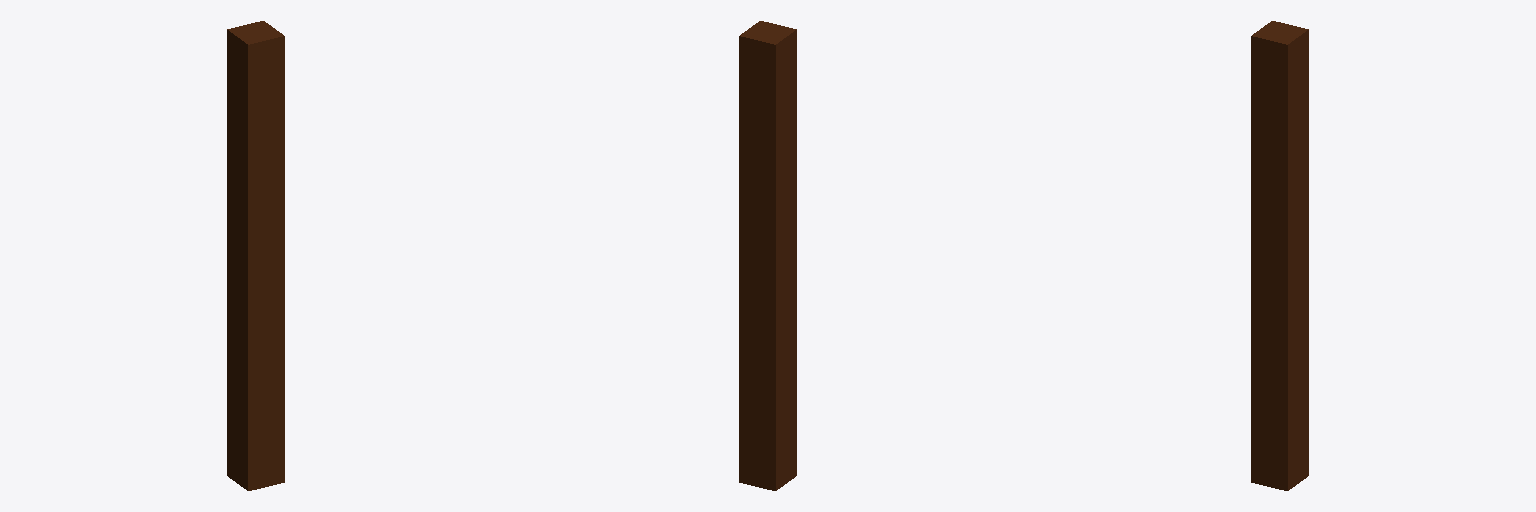
URDF robot description (tree_tall_wide):
<?xml version="1.0" ?>
<robot name="tree_tall_wide">
    <link name="block">
    <inertial>
      <origin xyz="0 0 0" rpy="0 0 0"/>
      <mass value="0.0"/>
      <inertia ixx="1" ixy="0" ixz="0" iyy="1" iyz="0" izz="1"/>
    </inertial>
    <!-- Visual representation of the cube (0.3m x 0.3m x 0.3m) -->
    <visual>
      <origin xyz="0 0 0" rpy="0 0 0"/>
      <geometry>
        <box size="0.6 0.6 7.0"/>
      </geometry>
      <material name="brown">
        <color rgba="0.35 0.20 0.10 1.0"/>
      </material>
    </visual>
    <!-- Collision representation of the cube (0.3m x 0.3m x 0.3m) -->
    <collision>
      <origin xyz="0 0 0" rpy="0 0 0"/>
      <geometry>
        <box size="0.6 0.6 7.0"/>
      </geometry>
    </collision>    
    <!-- Contact properties (optional, e.g., friction) --> 
    <contact>
      <lateral_friction value="1.0"/>
      <rolling_friction value="0.0"/>
      <restitution value="0.0"/>
    </contact>
  </link>
</robot>  

--- Render facts (derived) ---
3 views of the same robot in one strip: view 1: azimuth 30°, elevation 25°; view 2: azimuth 150°, elevation 25°; view 3: azimuth 330°, elevation 25° (orthographic).
Robot: tree_tall_wide — 1 links, 0 joints (none); root link block; default pose: all joints at 0.
Links seen in each view (by area): view 1: block; view 2: block; view 3: block.
Link boxes in pixels (<box>): block: <box>227,21,284,490</box>; block: <box>739,21,796,490</box>; block: <box>1251,21,1308,490</box>.
Size in the robot's own frame: 0.6 by 0.6 by 7 metres.
Geometry: primitives only (box / cylinder / sphere), no mesh files.
